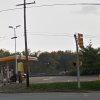Traffic light: (64, 29, 88, 55)
